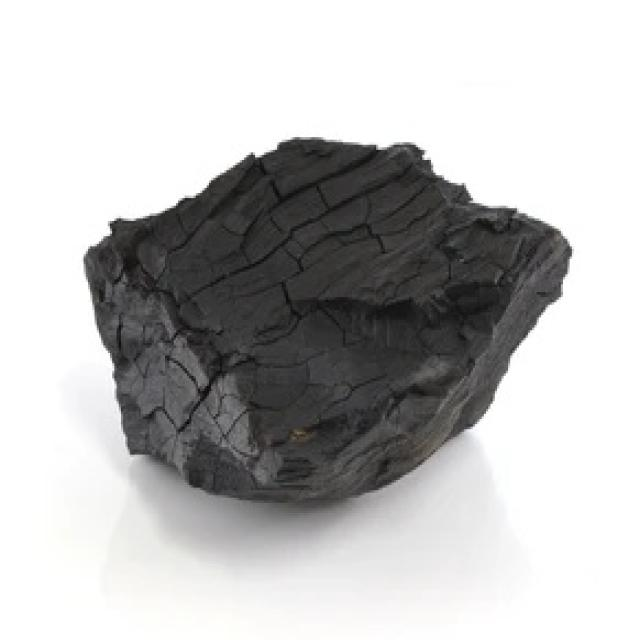Sedimentary: (84, 122, 596, 515)
